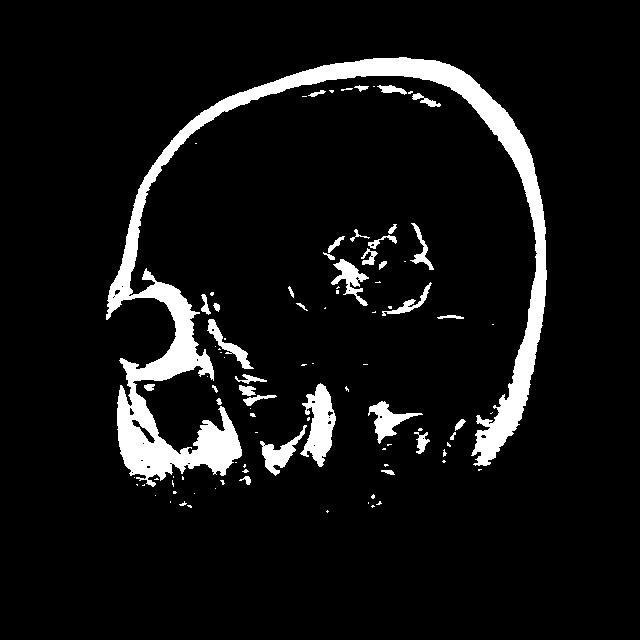Brain-Tumor: (316, 206, 462, 332)
eye: (99, 277, 214, 393)
